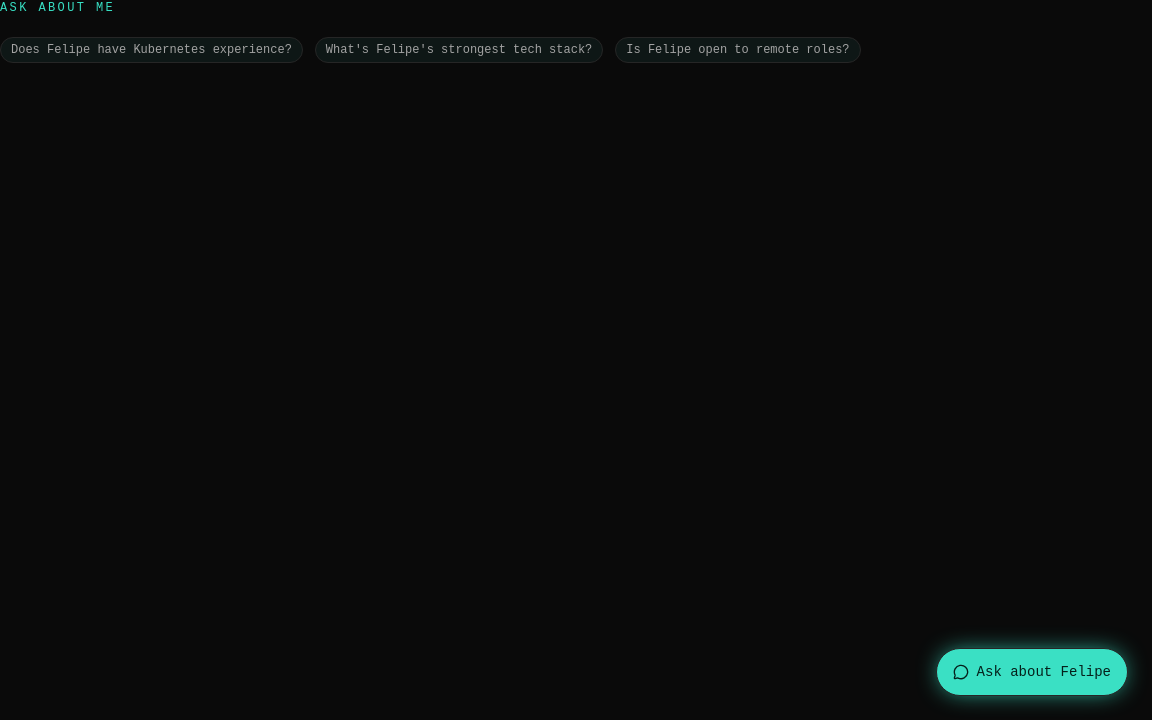
AskChips › opens the Ask widget and submits the chosen question when a chip is clicked
Click the button "Does Felipe have Kubernetes experience?" at (151, 50), box [0,28,303,72]
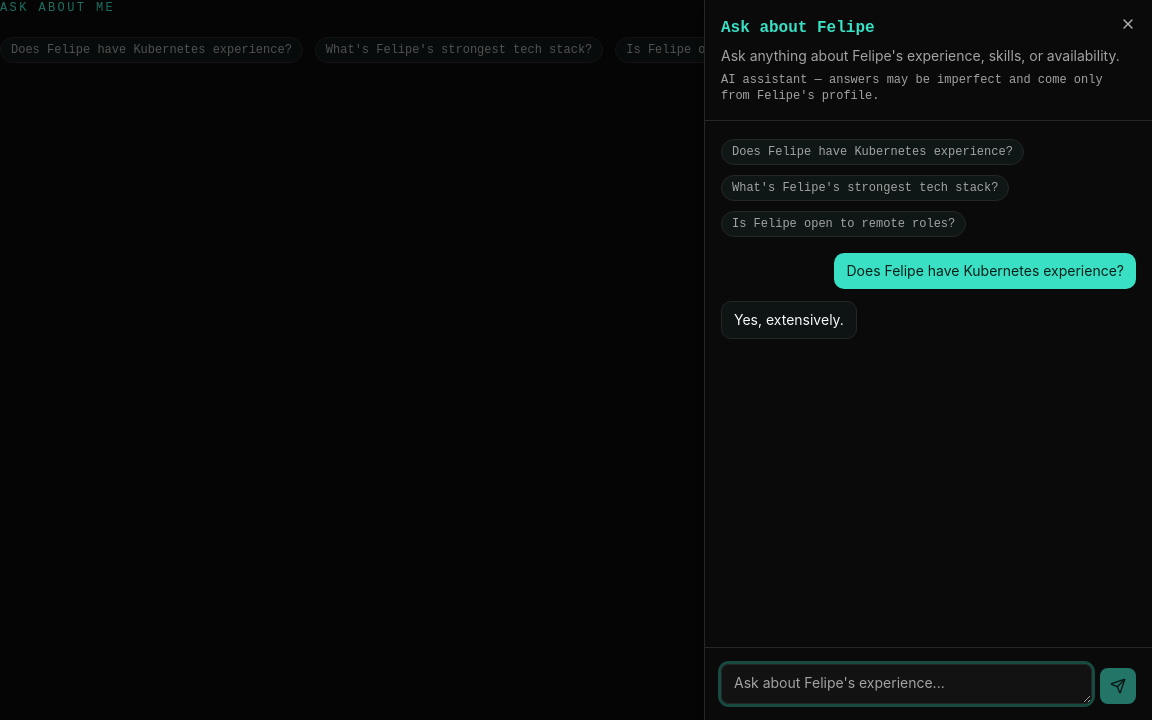
Expected: the text "Does Felipe have Kubernetes experience?" below "Ask about me" is shown, [11,43,292,57]
Expected: the text "AI assistant" is shown, [721,73,1103,103]
Expected: the text "Yes, extensively." is shown, [721,301,857,339]
